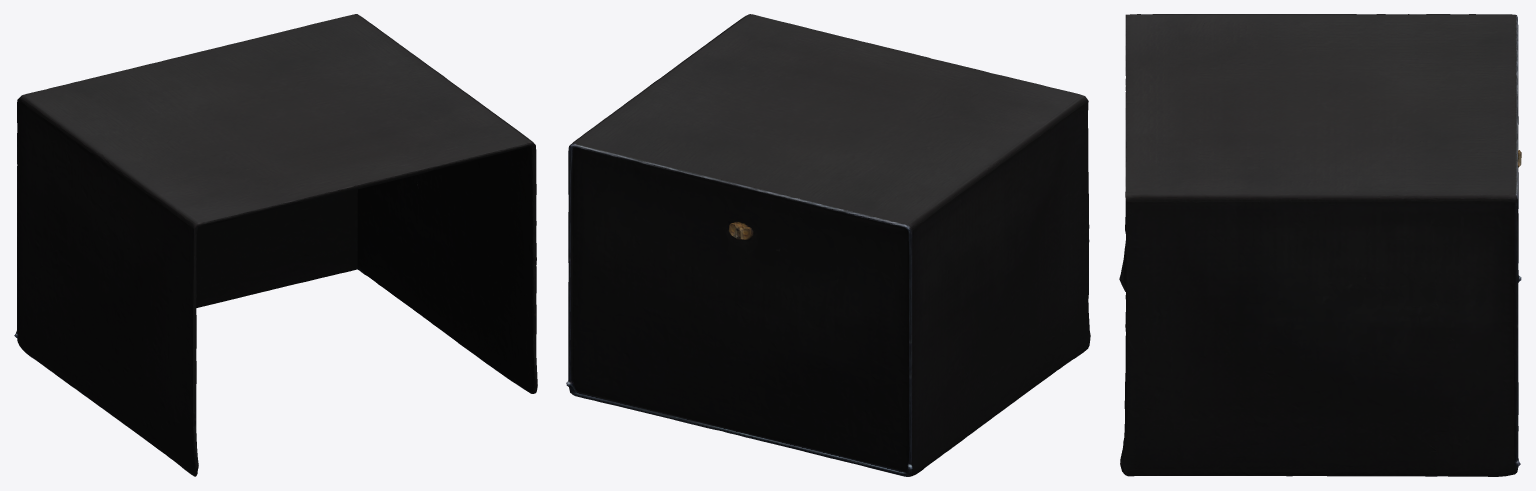
The picture shows the model from 3 angles, left to right: view 1: azimuth 30°, elevation 25°; view 2: azimuth 150°, elevation 25°; view 3: azimuth 270°, elevation 25°; orthographic projection. The views are drawn at different scales.
Parts seen in each view (by area): view 1: world; view 2: world; view 3: world.
Part boxes in pixels (left/top/right/bottom): world: left=14, top=14, right=537, bottom=476; world: left=566, top=14, right=1090, bottom=476; world: left=1119, top=14, right=1521, bottom=476.
Bounding box in the file's own units: 0.995 × 0.6983 × 0.9062.
1 material, 1 textured.
